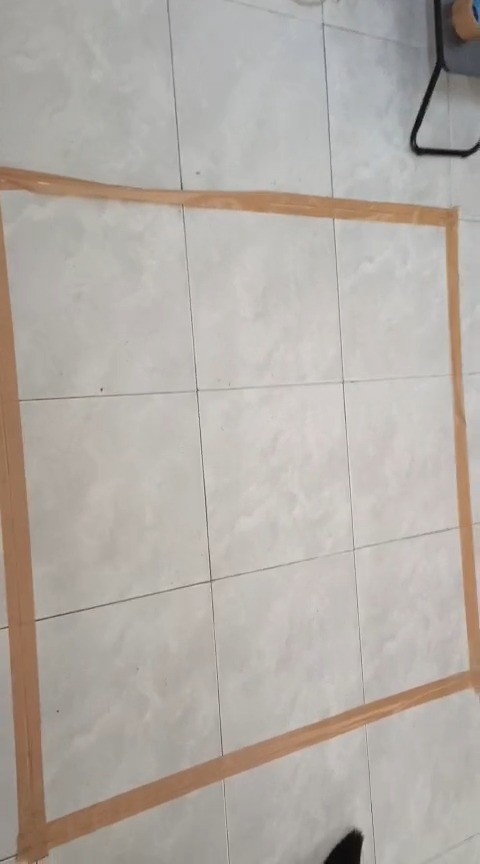floor marking: (0, 167, 479, 859)
